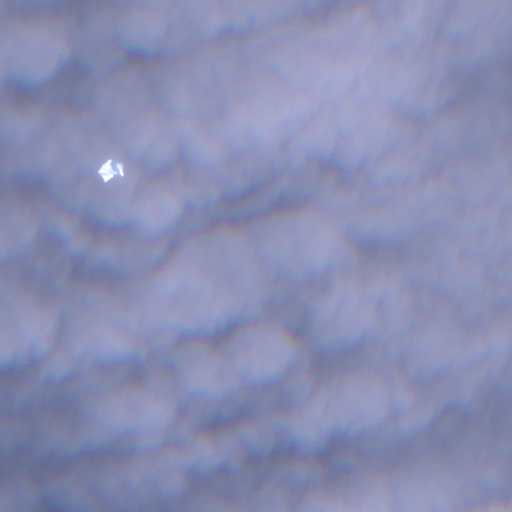Iceberg: (97, 158, 123, 183)
